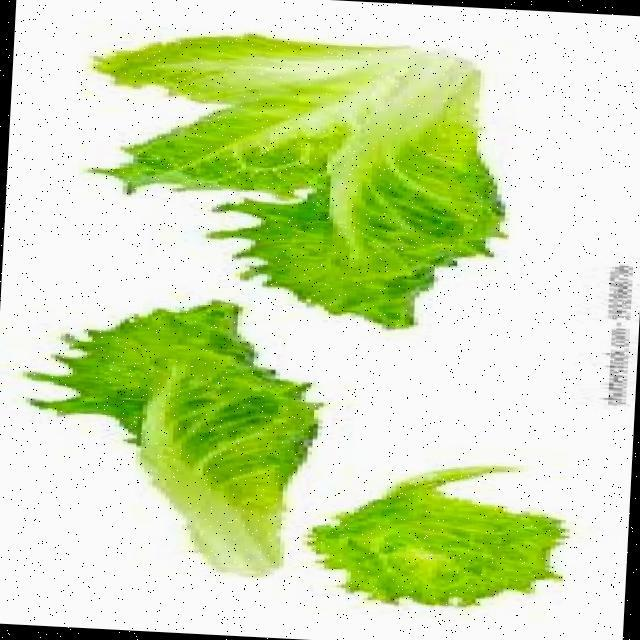Healthy: (173, 31, 507, 306), (82, 329, 304, 566), (312, 477, 584, 618)
